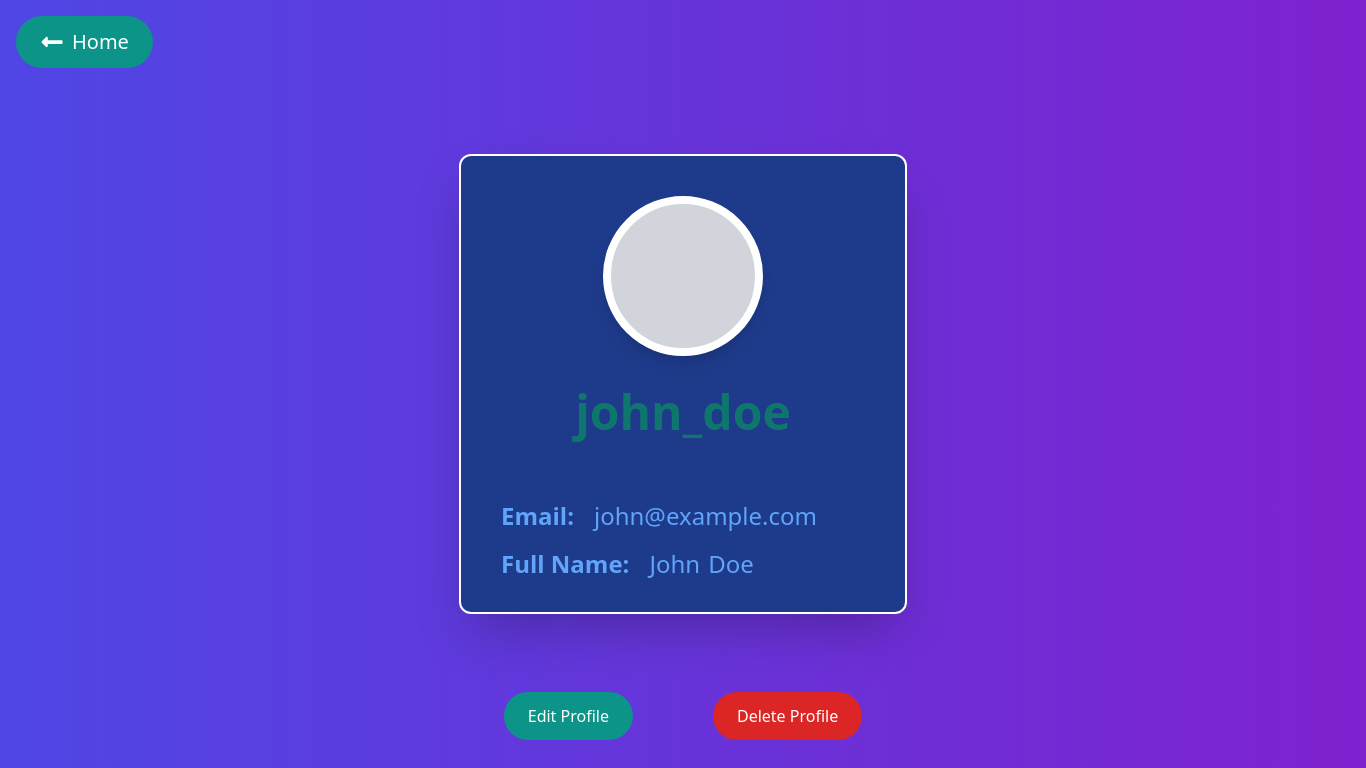
Test: Unit Tests: Profile.jsx › shows error if current password is empty on save
The width and height of the screenshot is (1366, 768).
Click the button "Edit Profile" at (568, 716), box top-left (504, 692), bottom-right (633, 740)
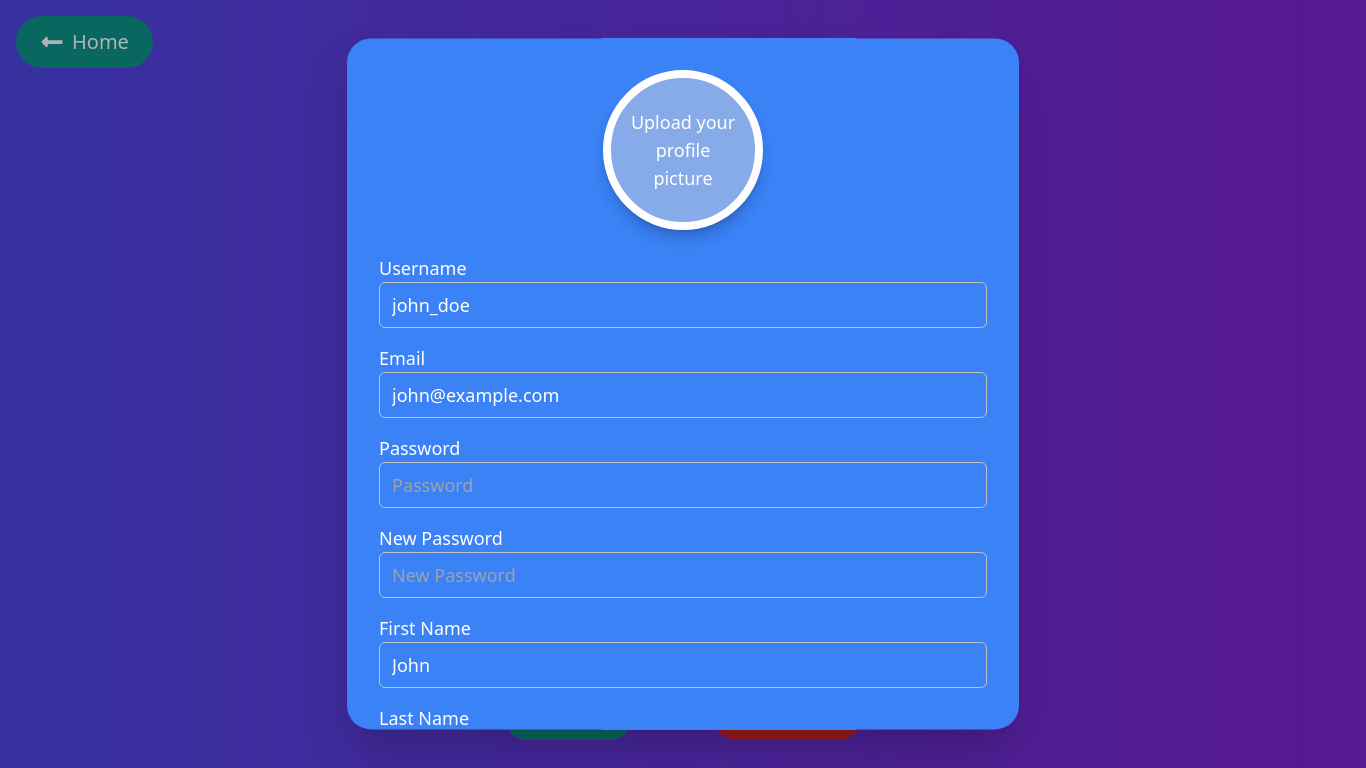
Clear the password field labelled "Password" at (683, 485), box top-left (379, 462), bottom-right (987, 508)
(page scrolled)
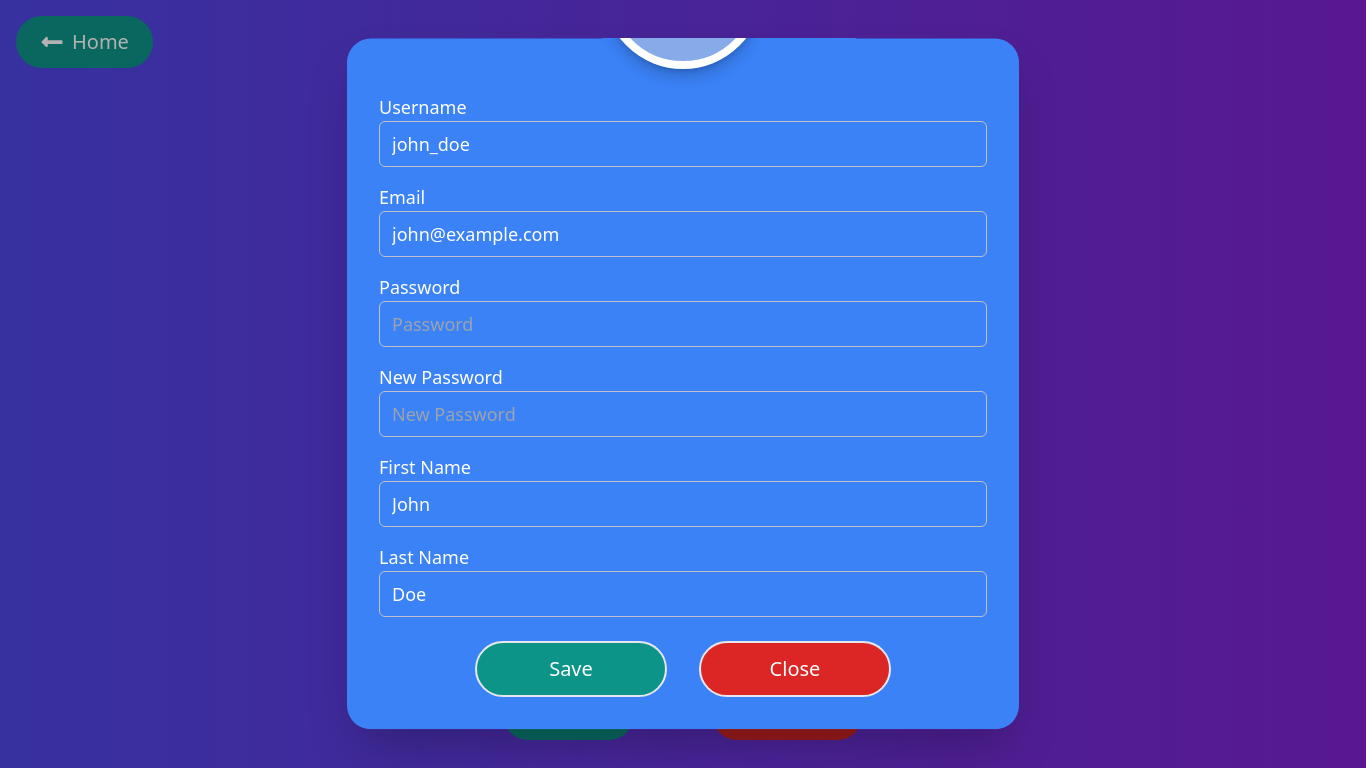
Click the button with test id "editProfile-save-button" at (571, 669), box top-left (475, 641), bottom-right (667, 697)
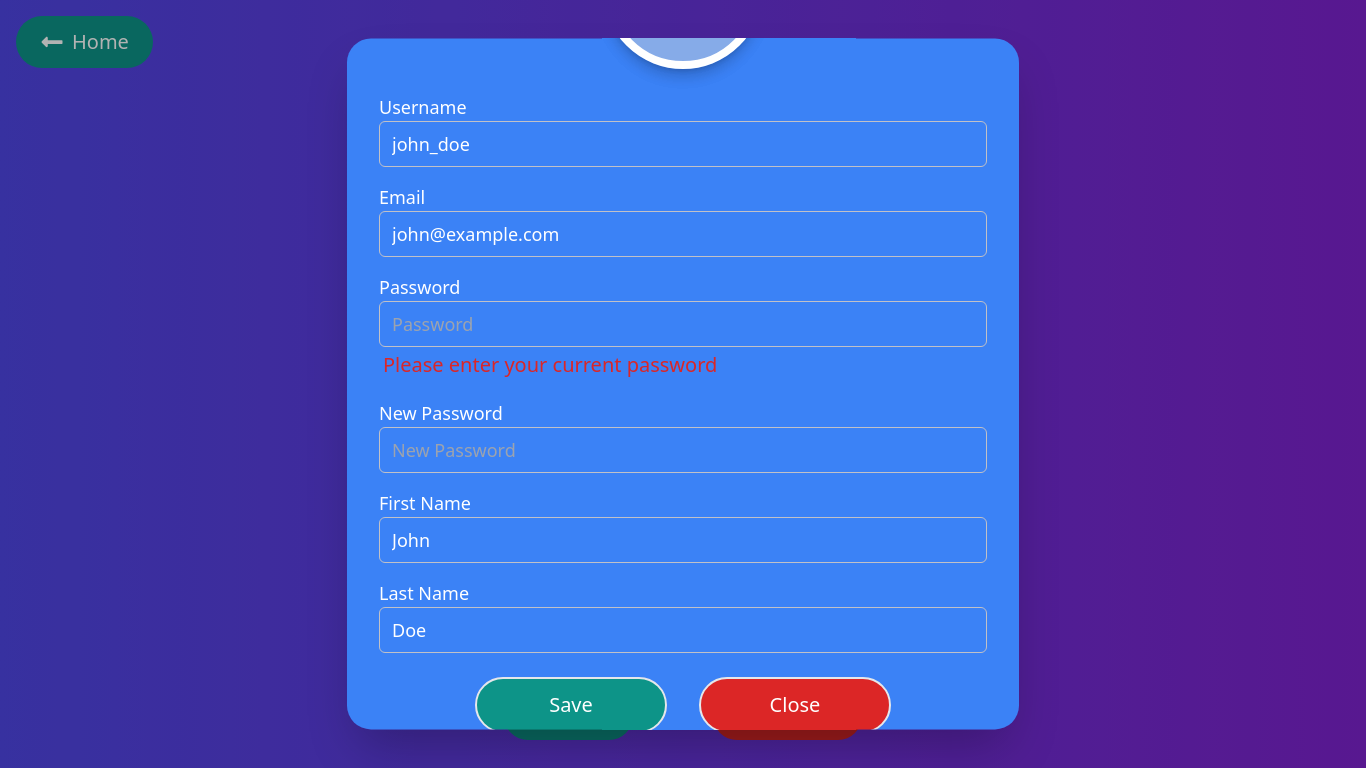
Expected: the text "Please enter your current password" is shown, top-left (383, 351), bottom-right (717, 378)
